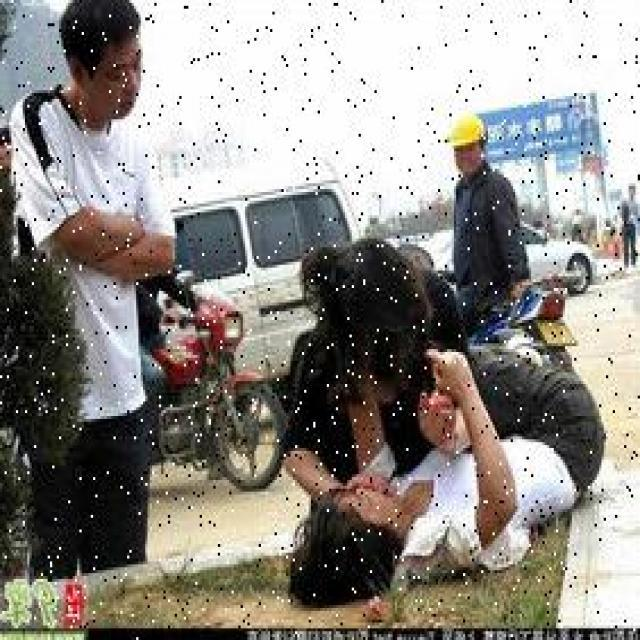fall: (318, 355, 610, 585)
